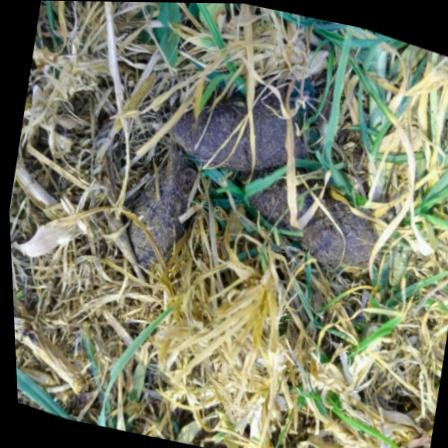dog-poop: (111, 58, 405, 296)
